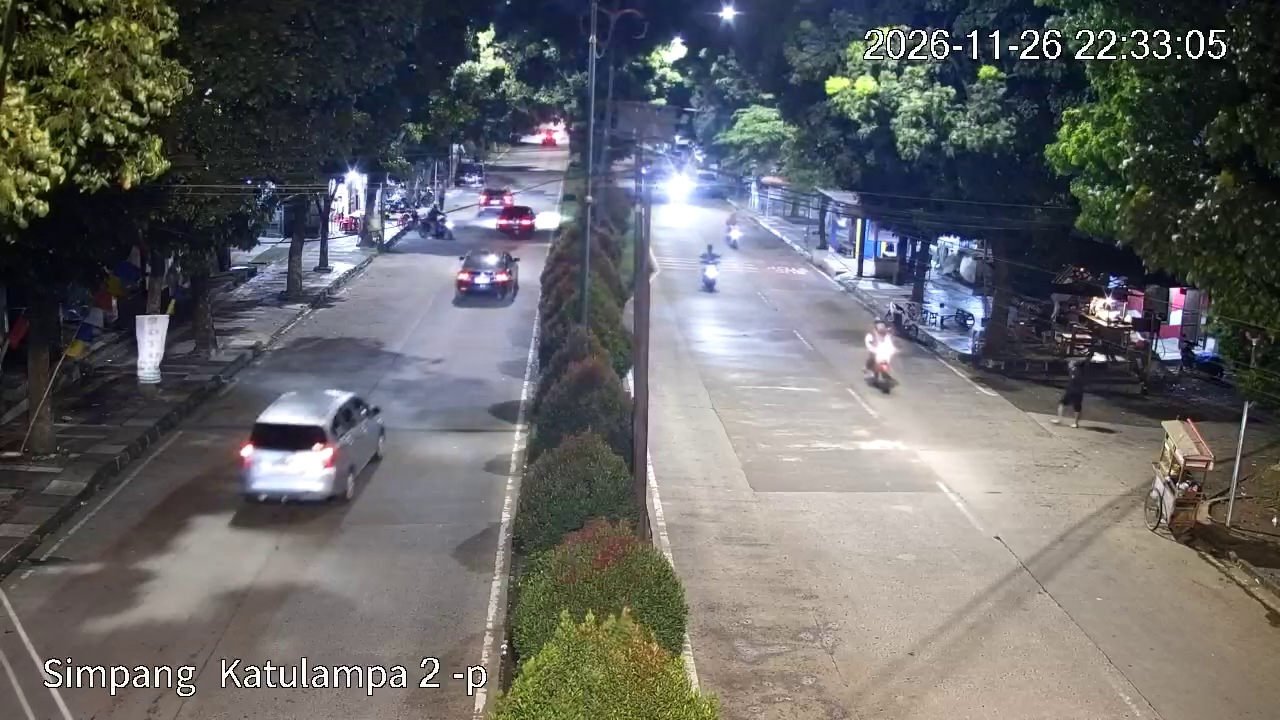Gerobak: (1143, 417, 1216, 538)
